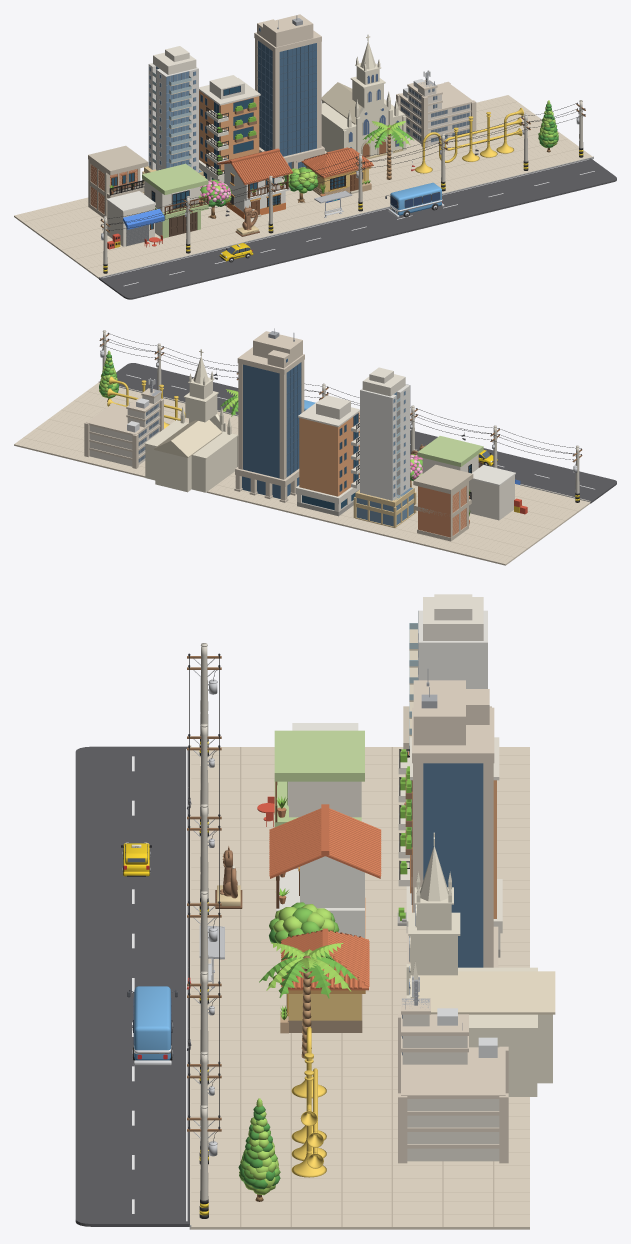
The model's file is Escenario Urbano Free Frecuency.glb.
3 renders of one model, top to bottom at view 1: azimuth 30°, elevation 25°; view 2: azimuth 150°, elevation 25°; view 3: azimuth 270°, elevation 25°, orthographic. The views are drawn at different scales.
Parts seen in each view (by area): view 1: CALLE_Anden_Baldosas, CALLE_Calzada, EDIFICIO_03, EDIFICIO_01, EDIFICIO_04, EDIFICIO_02, EDIFICIO_05, CASA_06, CASA_08, CASA_10, CASA_09, CASA_07 (+11 smaller); view 2: CALLE_Anden_Baldosas, EDIFICIO_03, EDIFICIO_01, EDIFICIO_04, EDIFICIO_02, CALLE_Calzada, EDIFICIO_05, CASA_10, CASA_09, CASA_08, CALLE_Anden_Juntas, INSTRUMENTO_20 (+1 smaller); view 3: CALLE_Anden_Baldosas, CALLE_Calzada, EDIFICIO_03, EDIFICIO_05, EDIFICIO_04, CASA_06, CALLE_Anden_Juntas, CASA_08, EDIFICIO_01, CASA_07, EDIFICIO_02, ARBOL_12 (+10 smaller).
Part boxes in pixels (<box>): CALLE_Anden_Baldosas: <box>14,95,591,278</box>; CALLE_Calzada: <box>99,158,616,299</box>; EDIFICIO_03: <box>254,14,324,179</box>; EDIFICIO_01: <box>142,46,205,192</box>; EDIFICIO_04: <box>321,34,406,159</box>; EDIFICIO_02: <box>199,75,260,182</box>; EDIFICIO_05: <box>396,70,476,147</box>; CASA_06: <box>217,148,292,219</box>; CASA_08: <box>142,163,208,238</box>; CASA_10: <box>88,145,148,219</box>; CASA_09: <box>106,191,164,249</box>; CASA_07: <box>301,147,373,196</box>; CALLE_Anden_Baldosas: <box>14,382,590,565</box>; EDIFICIO_03: <box>234,328,304,502</box>; EDIFICIO_01: <box>353,367,416,527</box>; EDIFICIO_04: <box>144,349,238,492</box>; EDIFICIO_02: <box>295,395,359,516</box>; CALLE_Calzada: <box>116,363,616,503</box>; EDIFICIO_05: <box>84,378,163,468</box>; CASA_10: <box>413,464,473,541</box>; CASA_09: <box>469,465,527,520</box>; CASA_08: <box>417,436,483,476</box>; CALLE_Anden_Juntas: <box>22,391,579,559</box>; INSTRUMENTO_20: <box>107,376,185,428</box>; CALLE_Anden_Baldosas: <box>190,747,529,1229</box>; CALLE_Calzada: <box>75,746,189,1226</box>; EDIFICIO_03: <box>407,668,499,967</box>; EDIFICIO_05: <box>398,976,508,1163</box>; EDIFICIO_04: <box>406,832,555,1096</box>; CASA_06: <box>269,804,381,938</box>; CALLE_Anden_Juntas: <box>191,747,529,1226</box>; CASA_08: <box>274,730,364,826</box>; EDIFICIO_01: <box>409,594,487,757</box>; CASA_07: <box>280,928,369,1033</box>; EDIFICIO_02: <box>397,737,502,957</box>; ARBOL_12: <box>259,942,357,1058</box>.
Bounding box in the file's own units: 71.76 × 21.8 × 30.31.
